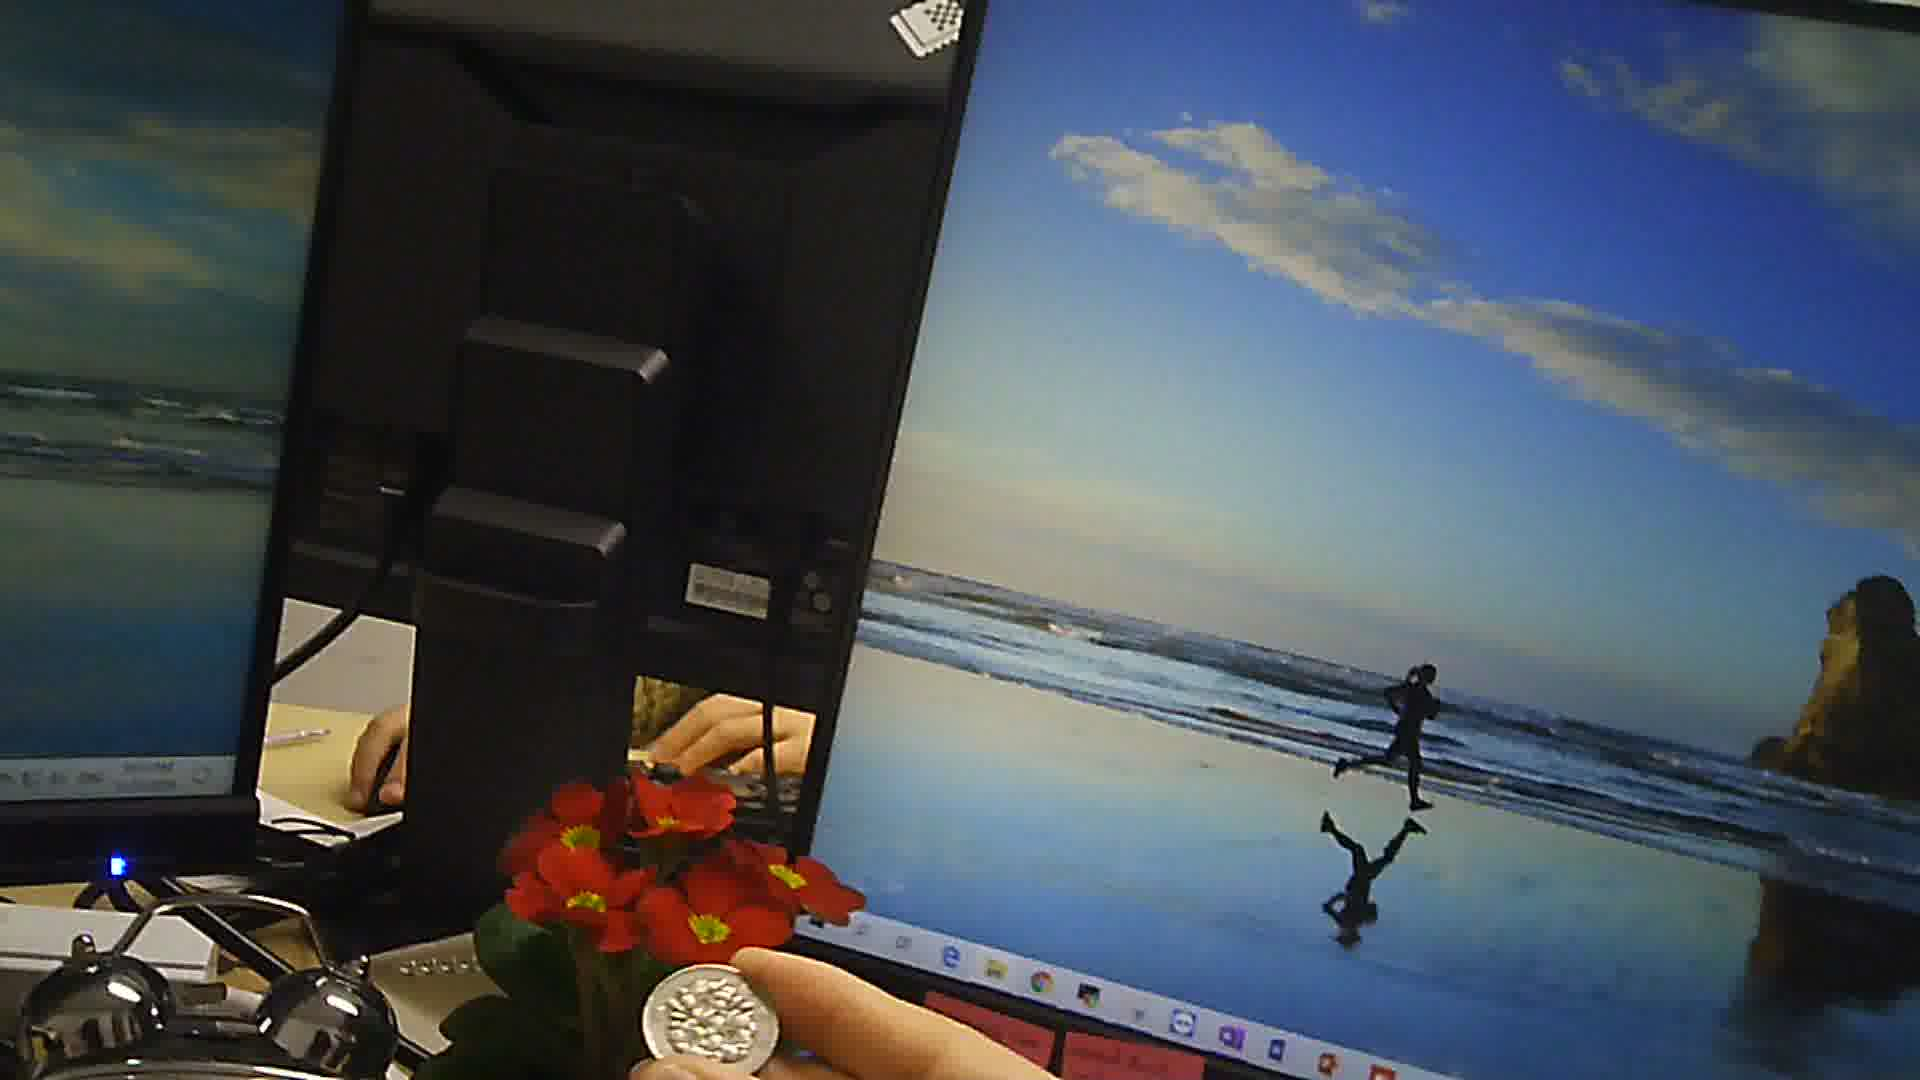100 Yen: (644, 957, 786, 1079)
